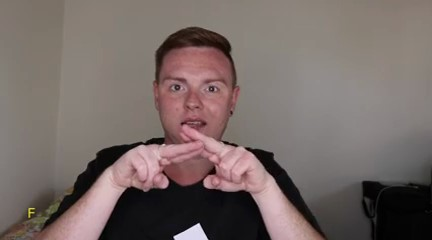F: (103, 123, 264, 203)
